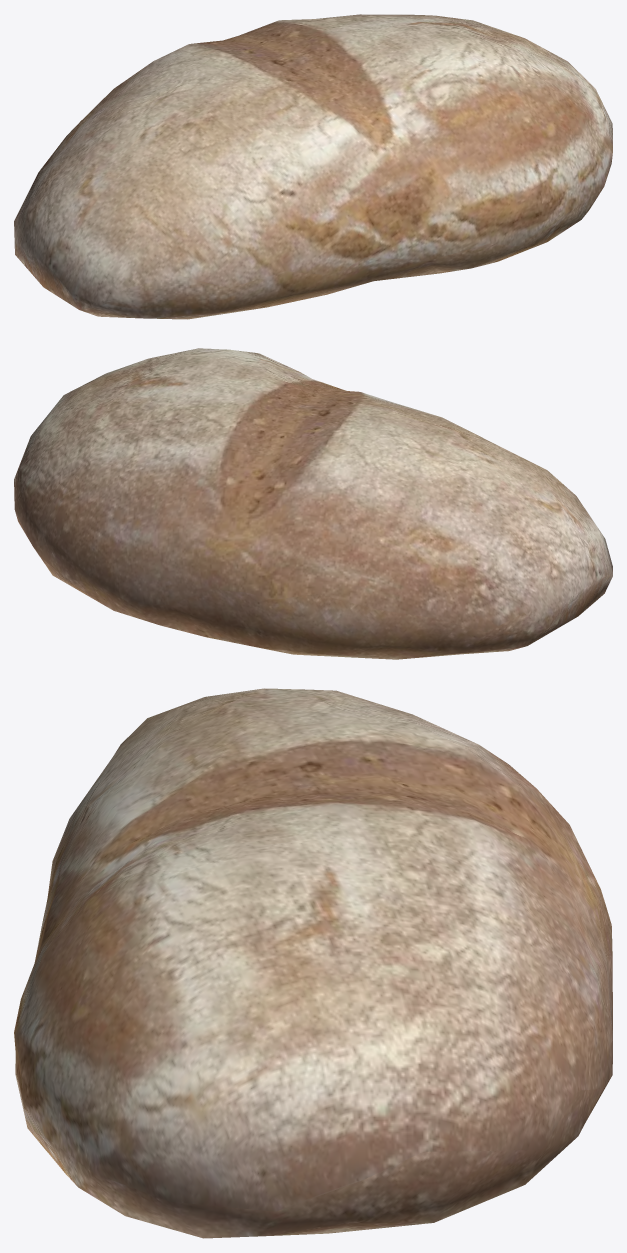
File: 3DBread003.glb
The picture shows the model from 3 angles, top to bottom: view 1: azimuth 30°, elevation 25°; view 2: azimuth 150°, elevation 25°; view 3: azimuth 270°, elevation 25°; orthographic projection. The views are drawn at different scales.
Parts seen in each view (by area): view 1: 3DBread003; view 2: 3DBread003; view 3: 3DBread003.
Boxes of the visible parts, bbox=[...] form: 3DBread003: bbox=[14, 14, 612, 319]; 3DBread003: bbox=[14, 348, 612, 659]; 3DBread003: bbox=[14, 688, 612, 1238].
Size of the model in its own units: 0.3217 by 0.1042 by 0.1929.
1 material, 1 textured.
